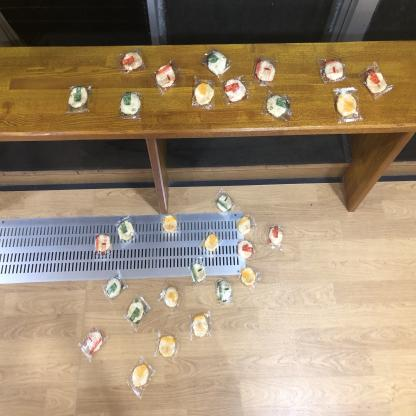green_setoshio: (124, 293, 152, 328), (100, 267, 126, 303), (263, 90, 293, 120), (65, 82, 91, 114), (117, 87, 143, 118), (204, 47, 232, 74), (115, 212, 138, 244), (214, 277, 235, 307), (215, 189, 236, 215), (187, 262, 207, 286)
red_setoshio: (362, 62, 393, 96), (318, 53, 349, 84), (152, 61, 180, 92), (116, 47, 145, 76), (264, 217, 289, 250), (83, 324, 107, 358), (252, 54, 278, 85), (222, 76, 250, 104), (232, 237, 257, 260), (93, 231, 116, 256)
yellow_setoshio: (333, 86, 364, 121), (127, 356, 154, 395), (189, 77, 216, 110), (155, 330, 182, 360), (188, 311, 214, 342), (159, 280, 184, 310), (236, 261, 262, 288), (200, 229, 223, 254), (236, 213, 257, 237), (161, 211, 180, 234)
